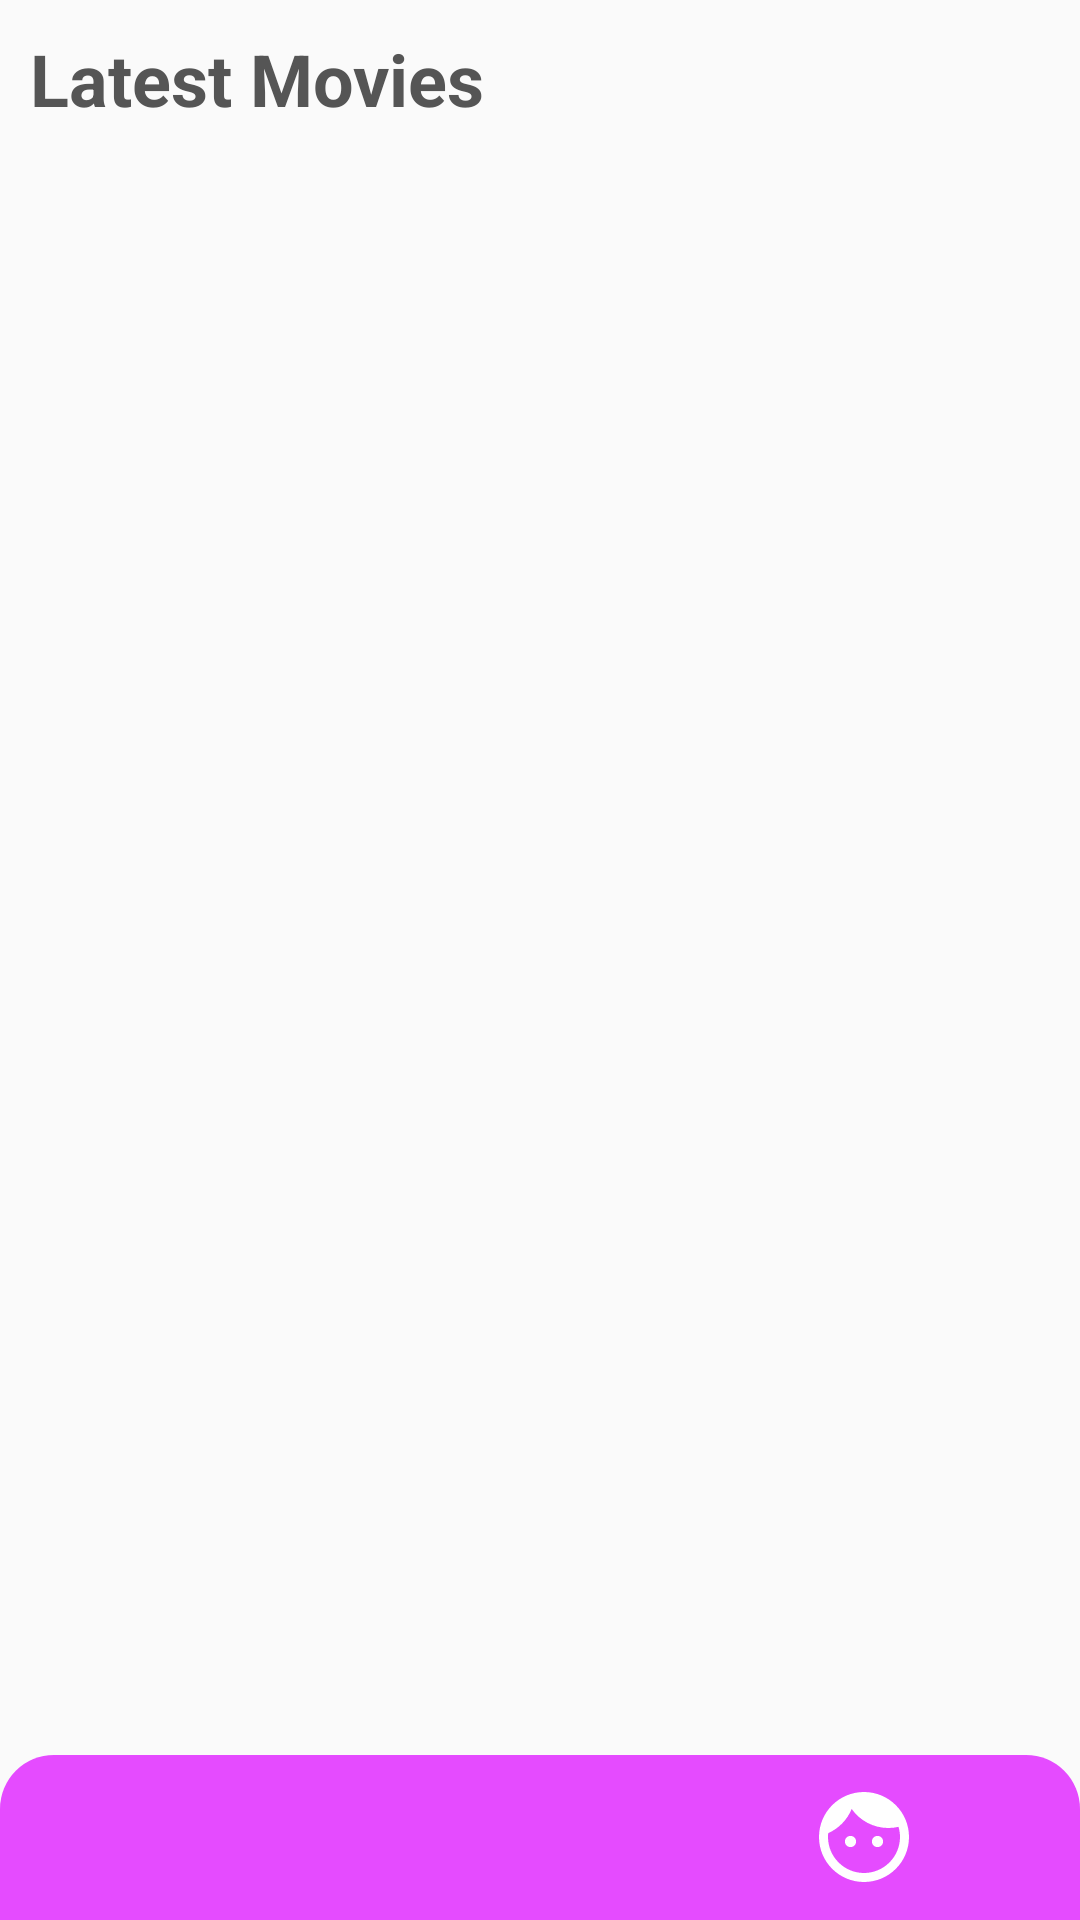

Point at icon controls on the screen. Image size 1080px x 1920px, points as (x,y).
face: (864,1837)
